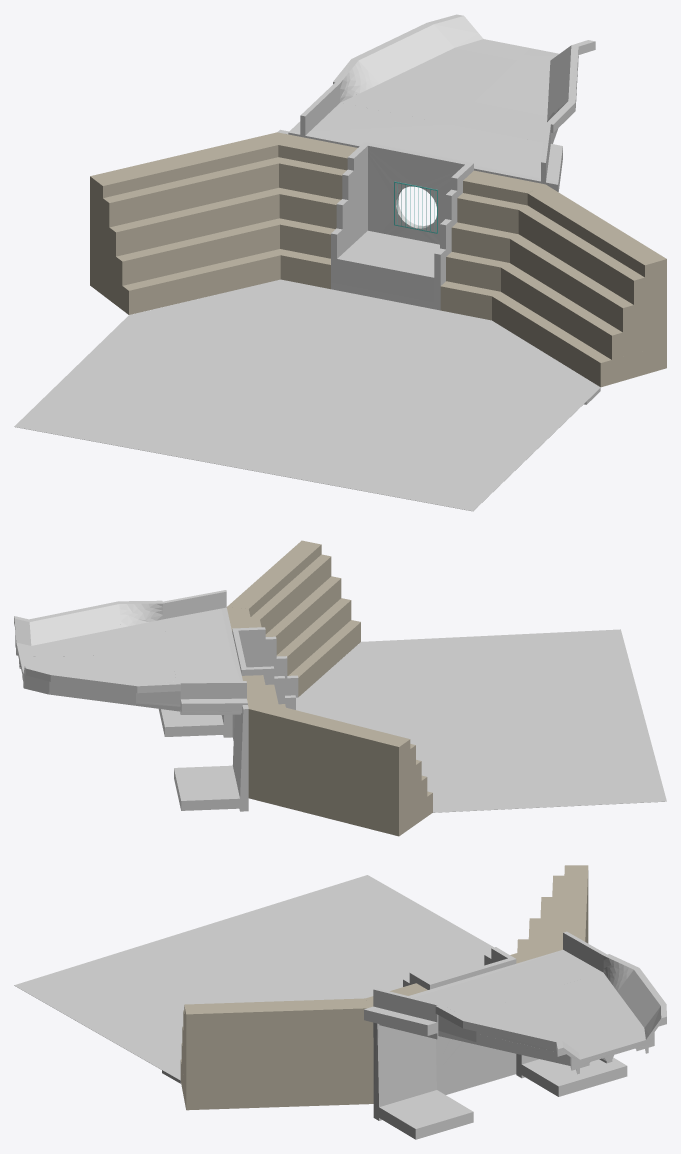
The model's file is 500125-CSSP001-780-XX-MD-ST-000223.glb.
3 renders of one model, top to bottom at view 1: azimuth 30°, elevation 25°; view 2: azimuth 150°, elevation 25°; view 3: azimuth 270°, elevation 25°, orthographic. The views are drawn at different scales.
Visible parts, largest first — view 1: 500125-CSSP001-780-XX-MD-ST-000223#OTR001, 500125-CSSP001-780-XX-MD-ST-000223#GAV001; view 2: 500125-CSSP001-780-XX-MD-ST-000223#OTR001, 500125-CSSP001-780-XX-MD-ST-000223#GAV001; view 3: 500125-CSSP001-780-XX-MD-ST-000223#OTR001, 500125-CSSP001-780-XX-MD-ST-000223#GAV001.
Boxes of the visible parts, box(x1,y1,x2,y2) form: 500125-CSSP001-780-XX-MD-ST-000223#OTR001: box(14, 14, 600, 511); 500125-CSSP001-780-XX-MD-ST-000223#GAV001: box(90, 132, 666, 387); 500125-CSSP001-780-XX-MD-ST-000223#OTR001: box(14, 590, 666, 812); 500125-CSSP001-780-XX-MD-ST-000223#GAV001: box(226, 540, 432, 836); 500125-CSSP001-780-XX-MD-ST-000223#OTR001: box(14, 875, 666, 1139); 500125-CSSP001-780-XX-MD-ST-000223#GAV001: box(180, 865, 588, 1110).
Bounding box in the file's own units: 29.74 × 6.33 × 27.78.
